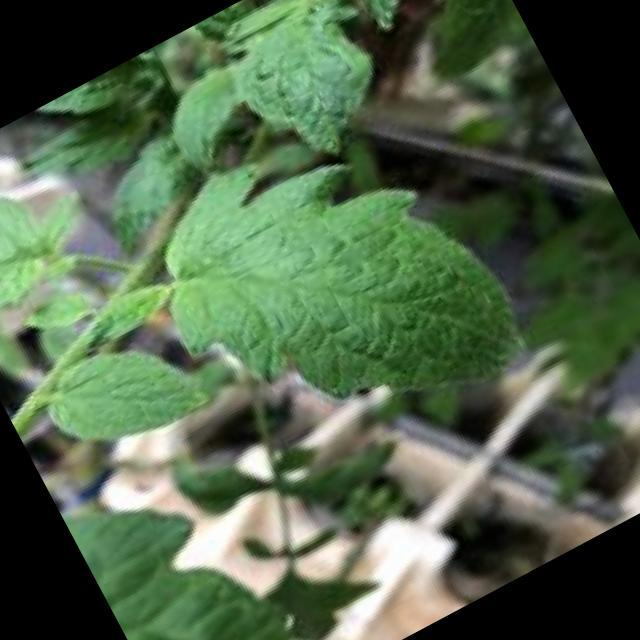Tomato healthy leaf: (164, 168, 527, 401), (66, 514, 294, 640), (231, 0, 404, 154), (10, 348, 224, 444)
